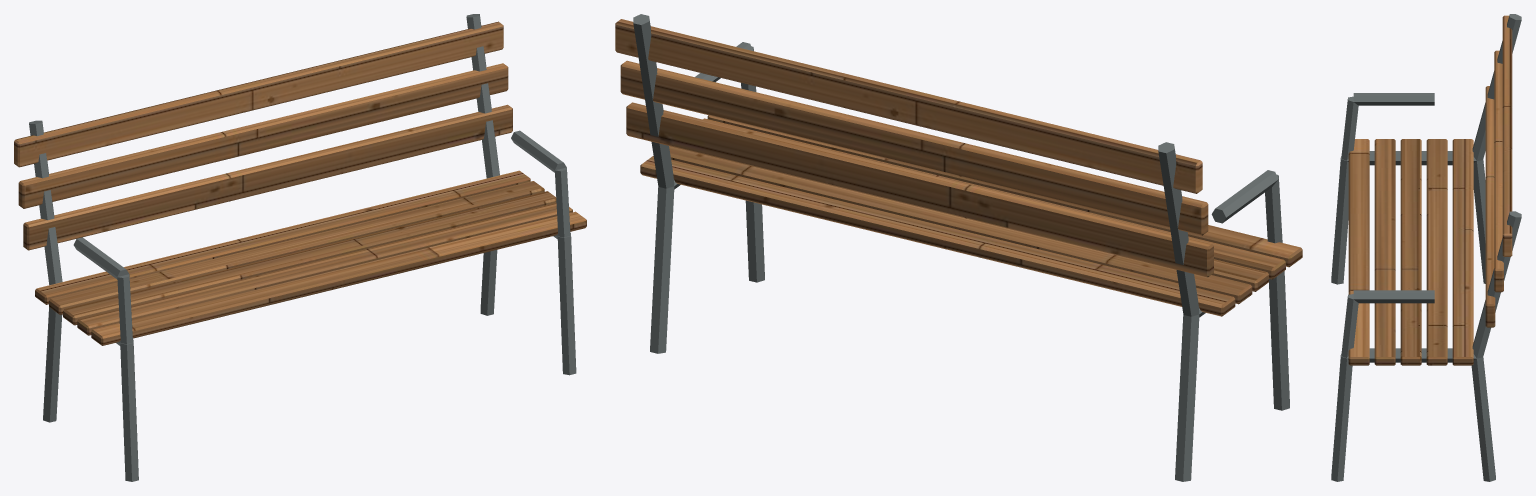
The model's file is garden_bench.glb.
3 views of the same model, side by side, from view 1: azimuth 30°, elevation 25°; view 2: azimuth 150°, elevation 25°; view 3: azimuth 270°, elevation 25° (orthographic). The views are drawn at different scales.
Visible parts, largest first — view 1: garden_bench_oak, garden_bench_iron; view 2: garden_bench_oak, garden_bench_iron; view 3: garden_bench_oak, garden_bench_iron.
Boxes of the visible parts, bbox=[...] form: garden_bench_oak: bbox=[14, 21, 586, 345]; garden_bench_iron: bbox=[29, 14, 576, 481]; garden_bench_oak: bbox=[615, 19, 1302, 316]; garden_bench_iron: bbox=[633, 14, 1289, 481]; garden_bench_oak: bbox=[1348, 15, 1512, 365]; garden_bench_iron: bbox=[1331, 14, 1521, 481].
Size of the model in its own units: 1.6 by 0.9064 by 0.5875.
Materials: 2 (1 with a texture image).
